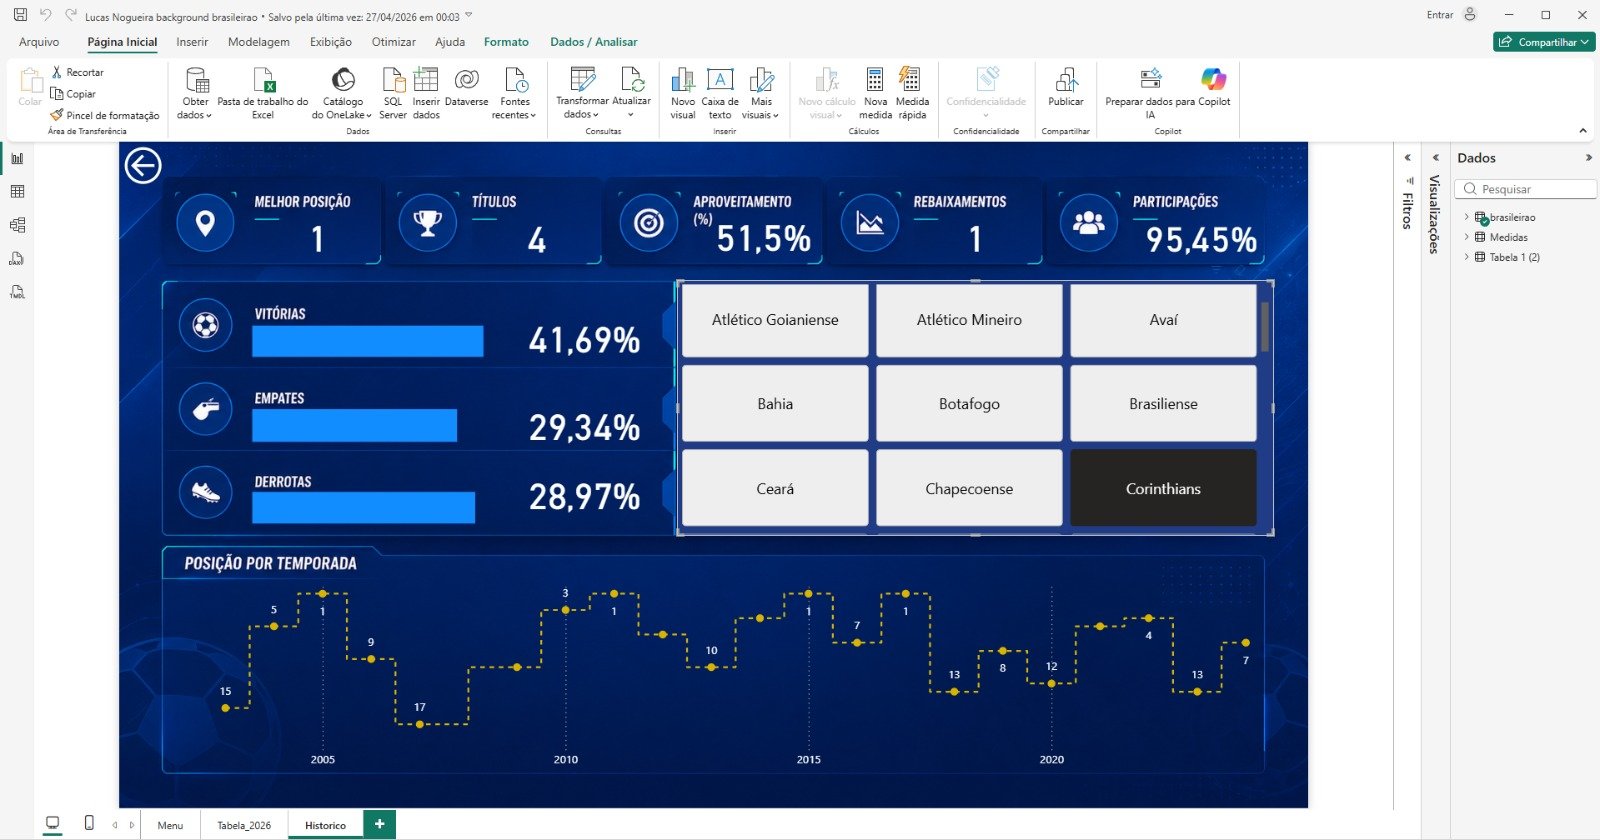

What the dashboard file says about the page in this screenshot:
{"tool":"powerbi","page":{"name":"Historico","canvas":[1280,720],"ordinal":2},"visuals":[{"type":"advancedSlicerVisual","fields":{"Values":["brasileirao.Clube"]},"box":[600.9,149.1,642.7,275.5],"z":0},{"type":"lineChart","fields":{"Y":["Sum(brasileirao.Posição)"],"Category":["brasileirao.Temporada"]},"box":[44.3,464.3,1187.1,220],"z":1000},{"type":"card","fields":{"Values":["Medidas.Melhor posição"]},"box":[150,63.6,127.3,74.5],"z":2000},{"type":"card","fields":{"Values":["Medidas.N de títulos"]},"box":[397.3,64.5,103.6,74.5],"z":3000},{"type":"card","fields":{"Values":["Medidas.aproveitamento"]},"box":[623.6,61.8,138.2,77.3],"z":4000},{"type":"card","fields":{"Values":["Medidas.Rebaixamento"]},"box":[870.9,63.6,102.7,74.5],"z":5000},{"type":"card","fields":{"Values":["Medidas.// Participações"]},"box":[1087.3,64.5,156.4,74.5],"z":6000},{"type":"clusteredBarChart","fields":{"Y":["Medidas.percentual de vitórias"]},"box":[138.6,140,607.1,144.3],"z":7000},{"type":"card","fields":{"Values":["Medidas.percentual de vitórias"]},"box":[427.3,173.6,147.3,73.6],"z":8000},{"type":"card","fields":{"Values":["Medidas.percentual de empates"]},"box":[427.3,266.4,147.3,74.5],"z":9000},{"type":"clusteredBarChart","fields":{"Y":["Medidas.percentual de empates"]},"box":[138.2,228.2,235.5,150],"z":10000},{"type":"card","fields":{"Values":["Medidas.percentual de derrotas"]},"box":[427.3,340.9,147.3,74.5],"z":11000},{"type":"clusteredBarChart","fields":{"Y":["Medidas.percentual de derrotas"]},"box":[138.6,318.6,258.6,145.7],"z":12000},{"type":"actionButton","box":[0,0,54.3,51.4],"z":12001}]}

Visuals, with their boxes on the page's 1280x720 design canvas (x1, y1, x2, y2). These are canvas units, not pixel positions in the 1600x840 screenshot, which may show the page scaled, cropped or inside an application window:
advancedSlicerVisual - brasileirao.Clube: x1=601 y1=149 x2=1244 y2=425
lineChart - Sum(brasileirao.Posição) x brasileirao.Temporada: x1=44 y1=464 x2=1231 y2=684
card - Medidas.Melhor posição: x1=150 y1=64 x2=277 y2=138
card - Medidas.N de títulos: x1=397 y1=64 x2=501 y2=139
card - Medidas.aproveitamento: x1=624 y1=62 x2=762 y2=139
card - Medidas.Rebaixamento: x1=871 y1=64 x2=974 y2=138
card - Medidas.// Participações: x1=1087 y1=64 x2=1244 y2=139
clusteredBarChart - Medidas.percentual de vitórias: x1=139 y1=140 x2=746 y2=284
card - Medidas.percentual de vitórias: x1=427 y1=174 x2=575 y2=247
card - Medidas.percentual de empates: x1=427 y1=266 x2=575 y2=341
clusteredBarChart - Medidas.percentual de empates: x1=138 y1=228 x2=374 y2=378
card - Medidas.percentual de derrotas: x1=427 y1=341 x2=575 y2=415
clusteredBarChart - Medidas.percentual de derrotas: x1=139 y1=319 x2=397 y2=464
actionButton: x1=0 y1=0 x2=54 y2=51
